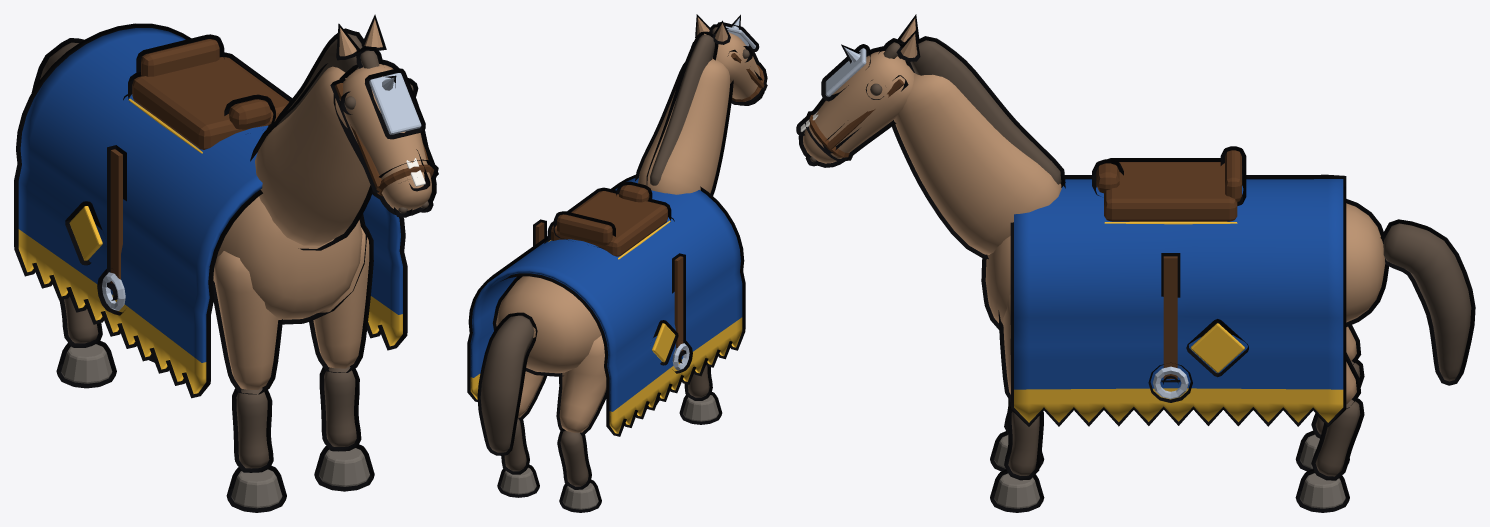
File: horse.glb
3 renders of one model, left to right at view 1: azimuth 30°, elevation 25°; view 2: azimuth 150°, elevation 25°; view 3: azimuth 270°, elevation 25°, orthographic. The views are drawn at different scales.
Visible parts, largest first — view 1: horse, neck, horse_ink, neck_ink; view 2: horse, neck, horse_ink, tail, neck_ink, tail_ink; view 3: horse, neck, horse_ink, tail, neck_ink, tail_ink.
Boxes of the visible parts, box(x1,y1,x2,y2) form: horse: box(18, 28, 402, 508); neck: box(255, 19, 433, 245); horse_ink: box(14, 23, 407, 512); neck_ink: box(250, 14, 438, 250); horse: box(470, 178, 742, 509); neck: box(638, 17, 764, 194); horse_ink: box(467, 174, 745, 512); tail: box(480, 315, 534, 452); neck_ink: box(635, 14, 767, 195); tail_ink: box(477, 312, 537, 455); horse: box(985, 150, 1385, 508); neck: box(800, 18, 1061, 254); horse_ink: box(981, 146, 1389, 512); tail: box(1383, 223, 1471, 381); neck_ink: box(796, 14, 1065, 259); tail_ink: box(1380, 219, 1475, 385).
Bounding box in the file's own units: 0.2886 × 0.6508 × 0.8663.
